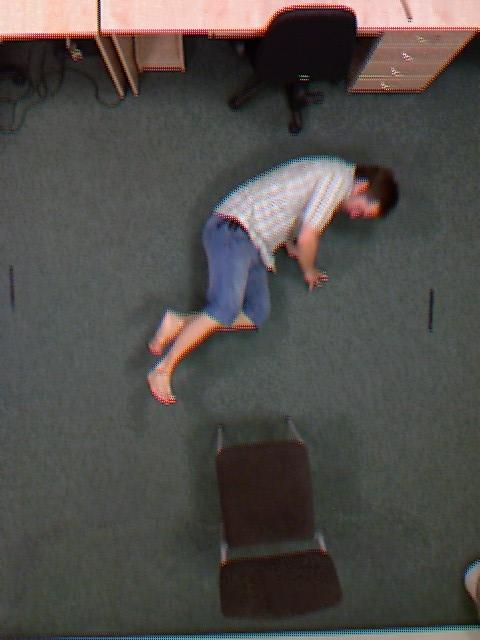fall: (177, 106, 368, 454)
